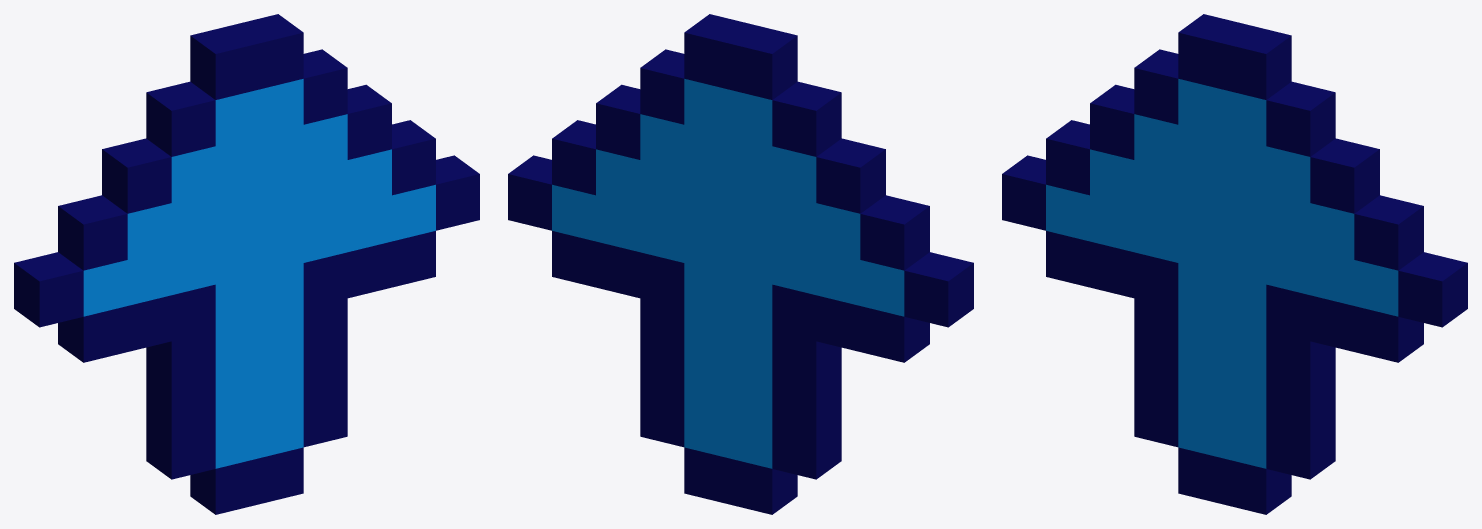
File: jump.obj
The picture shows the model from 3 angles, left to right: view 1: azimuth 30°, elevation 25°; view 2: azimuth 150°, elevation 25°; view 3: azimuth 330°, elevation 25°; orthographic projection.
Bounding box in the file's own units: 1 × 1 × 0.1.
1 material, 1 textured.
